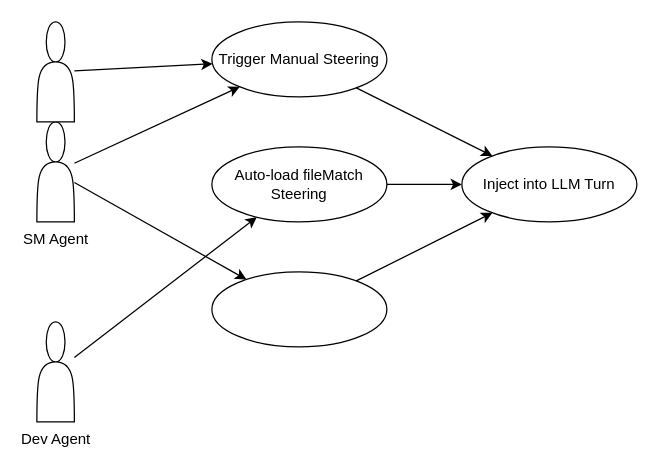
This 659x470 diagram has some shape labels left out. The centre of each missing label's shape, as x and y in pixels:
Deduplicate Rules: point 299,309
User: point 55,71
